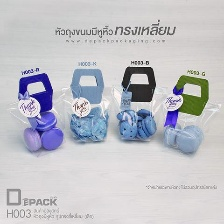snack: (153, 69, 224, 162), (2, 68, 73, 160), (107, 61, 171, 145), (57, 63, 115, 146)
